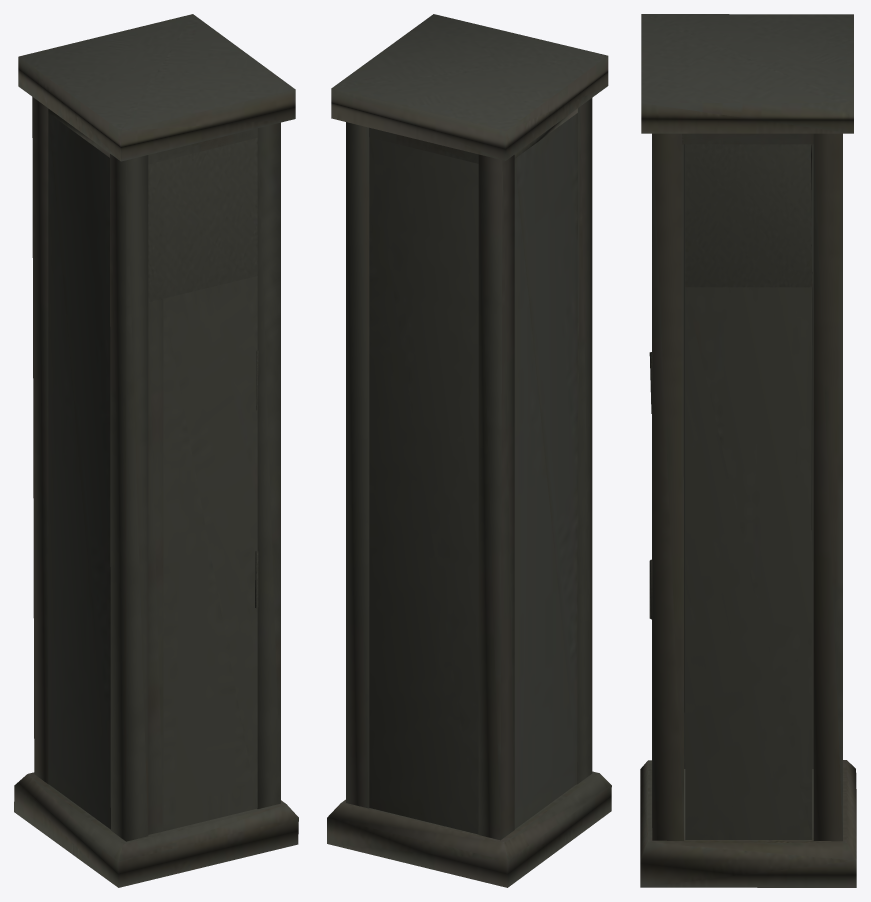
3 views of the same model, side by side, from view 1: azimuth 30°, elevation 25°; view 2: azimuth 150°, elevation 25°; view 3: azimuth 270°, elevation 25° (orthographic). The views are drawn at different scales.
Size of the model in its own units: 1 by 4 by 1.
Materials: 1 (1 with a texture image).
